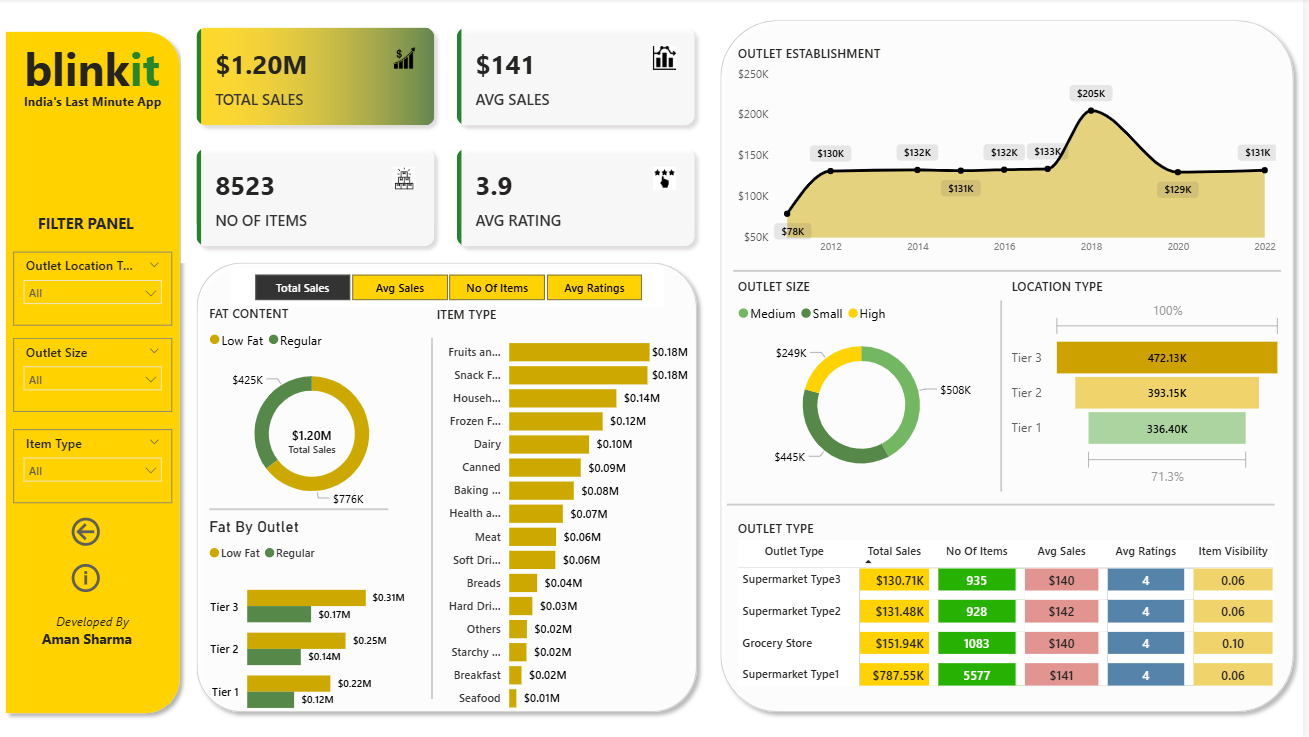

The page's visual inventory and layout, read from the dashboard file:
{"tool":"powerbi","page":{"name":"Page 1","canvas":[1400,800],"ordinal":0},"visuals":[{"type":"shape","box":[0,26.8,205.1,749.3],"z":0},{"type":"textbox","box":[12.7,38,179.7,83.5],"z":1000},{"type":"textbox","box":[13.9,96.2,178.5,34.2],"z":2000},{"type":"cardVisual","fields":{"Data":["Blinkit Data BI.Total Sales","Blinkit Data BI.Avg Sales","Blinkit Data BI.No Of Items","Blinkit Data BI.Avg Ratings"]},"box":[197.5,15.2,569.6,269.6],"z":3000},{"type":"shape","box":[205.1,274.7,554.4,500],"z":4000},{"type":"donutChart","title":"FAT CONTENT","fields":{"Y":["Blinkit Data BI.Total Sales"],"Category":["Blinkit Data BI.Item Fat Content"]},"box":[222.5,328.4,230.6,230.6],"z":5000},{"type":"slicer","fields":{"Values":["Metrics.Metrics"]},"box":[250.7,289.5,465.1,41.6],"z":6000},{"type":"cardVisual","fields":{"Data":["Blinkit Data BI.Total Sales"]},"box":[292.2,442.4,91.2,59],"z":7000},{"type":"clusteredBarChart","title":"Fat By Outlet","fields":{"Y":["Blinkit Data BI.Total Sales"],"Category":["Blinkit Data BI.Outlet Location Type"],"Series":["Blinkit Data BI.Item Fat Content"]},"box":[222.5,556.3,219.8,230.6],"z":8000},{"type":"shape","box":[227.9,530.8,191.7,34.9],"z":9000},{"type":"shape","box":[442.4,364.6,48.3,387.4],"z":10000},{"type":"barChart","title":"ITEM TYPE","fields":{"Y":["Blinkit Data BI.Total Sales"],"Category":["Blinkit Data BI.Item Type"]},"box":[466.8,329.4,279.8,446.4],"z":11000},{"type":"shape","box":[766.8,14.7,632.7,760.1],"z":12000},{"type":"lineChart","title":"OUTLET ESTABLISHMENT","fields":{"Y":["Blinkit Data BI.Total Sales"],"Category":["Blinkit Data BI.Outlet Establishment Year"]},"box":[789.5,49.6,587.1,234.6],"z":13000},{"type":"shape","box":[789.8,274.7,587.6,35.6],"z":14000},{"type":"donutChart","title":"OUTLET SIZE","fields":{"Y":["Blinkit Data BI.Total Sales"],"Category":["Blinkit Data BI.Outlet Size"]},"box":[789.8,300.1,275,225],"z":15000},{"type":"shape","box":[1060.7,324.3,33.1,204.8],"z":16000},{"type":"funnel","title":"LOCATION TYPE","fields":{"Category":["Blinkit Data BI.Outlet Location Type"],"Y":["Sum(Blinkit Data BI.Sales)"]},"box":[1083.6,300.1,300.1,228.9],"z":17000},{"type":"shape","box":[783.4,525.3,587.6,35.6],"z":18000},{"type":"pivotTable","title":"OUTLET TYPE","fields":{"Rows":["Blinkit Data BI.Outlet Type"],"Values":["Blinkit Data BI.Total Sales","Blinkit Data BI.No Of Items","Blinkit Data BI.Avg Sales","Blinkit Data BI.Avg Ratings","Avg(Blinkit Data BI.Item Visibility)"]},"box":[789.8,558.3,587.6,190.8],"z":19000},{"type":"slicer","fields":{"Values":["Blinkit Data BI.Outlet Location Type"]},"box":[17.4,272.1,170.2,79.1],"z":20000},{"type":"slicer","fields":{"Values":["Blinkit Data BI.Outlet Size"]},"box":[17.4,364.6,170.2,79.1],"z":21000},{"type":"slicer","fields":{"Values":["Blinkit Data BI.Item Type"]},"box":[17.4,462.5,170.2,79.1],"z":22000},{"type":"textbox","box":[38.9,225.2,127.3,40.2],"z":23000},{"type":"actionButton","box":[75.1,601.9,75.1,40.2],"z":24000},{"type":"textbox","box":[38.9,654.2,127.3,49.6],"z":25000},{"type":"actionButton","box":[75.1,552.3,53.6,40.2],"z":25001}]}

Visuals, with their boxes in screenshot pixels (x1, y1, x2, y2), scaled from the page's 1400x800 canvas onto the 1309x737 screenshot:
shape: (0, 25, 192, 715)
textbox: (12, 35, 180, 112)
textbox: (13, 89, 180, 120)
cardVisual - Blinkit Data BI.Total Sales x Blinkit Data BI.Avg Sales: (185, 14, 717, 262)
shape: (192, 253, 710, 714)
"FAT CONTENT" donutChart: (208, 303, 424, 515)
slicer - Metrics.Metrics: (234, 267, 669, 305)
cardVisual - Blinkit Data BI.Total Sales: (273, 408, 358, 462)
"Fat By Outlet" clusteredBarChart: (208, 512, 414, 725)
shape: (213, 489, 392, 521)
shape: (414, 336, 459, 693)
"ITEM TYPE" barChart: (436, 303, 698, 715)
shape: (717, 14, 1308, 714)
"OUTLET ESTABLISHMENT" lineChart: (738, 46, 1287, 262)
shape: (738, 253, 1288, 286)
"OUTLET SIZE" donutChart: (738, 276, 996, 484)
shape: (992, 299, 1023, 487)
"LOCATION TYPE" funnel: (1013, 276, 1294, 487)
shape: (732, 484, 1282, 517)
"OUTLET TYPE" pivotTable: (738, 514, 1288, 690)
slicer - Blinkit Data BI.Outlet Location Type: (16, 251, 175, 324)
slicer - Blinkit Data BI.Outlet Size: (16, 336, 175, 409)
slicer - Blinkit Data BI.Item Type: (16, 426, 175, 499)
textbox: (36, 207, 155, 244)
actionButton: (70, 555, 140, 592)
textbox: (36, 603, 155, 648)
actionButton: (70, 509, 120, 546)
